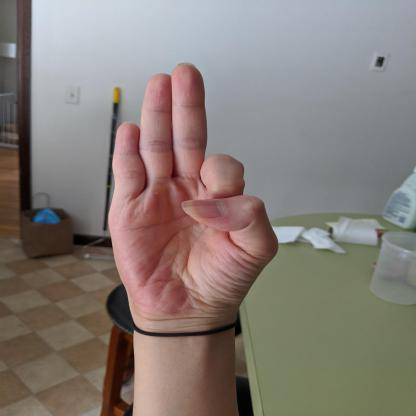F: (108, 62, 278, 332)
